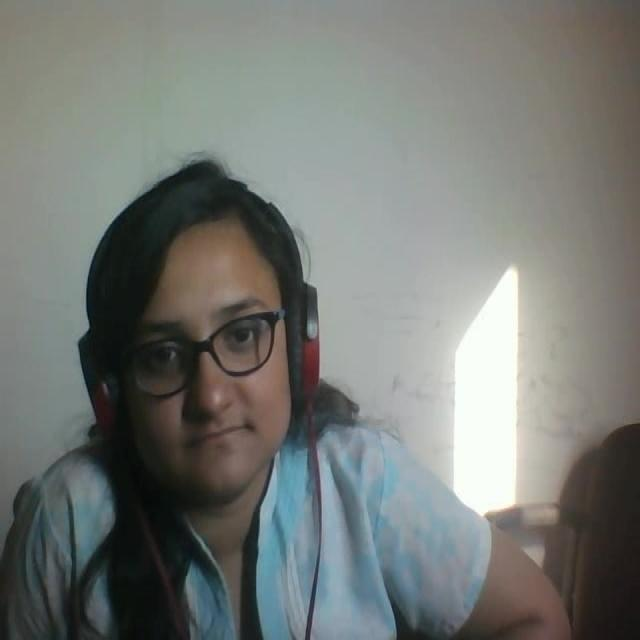Engaged: (58, 136, 346, 507)
